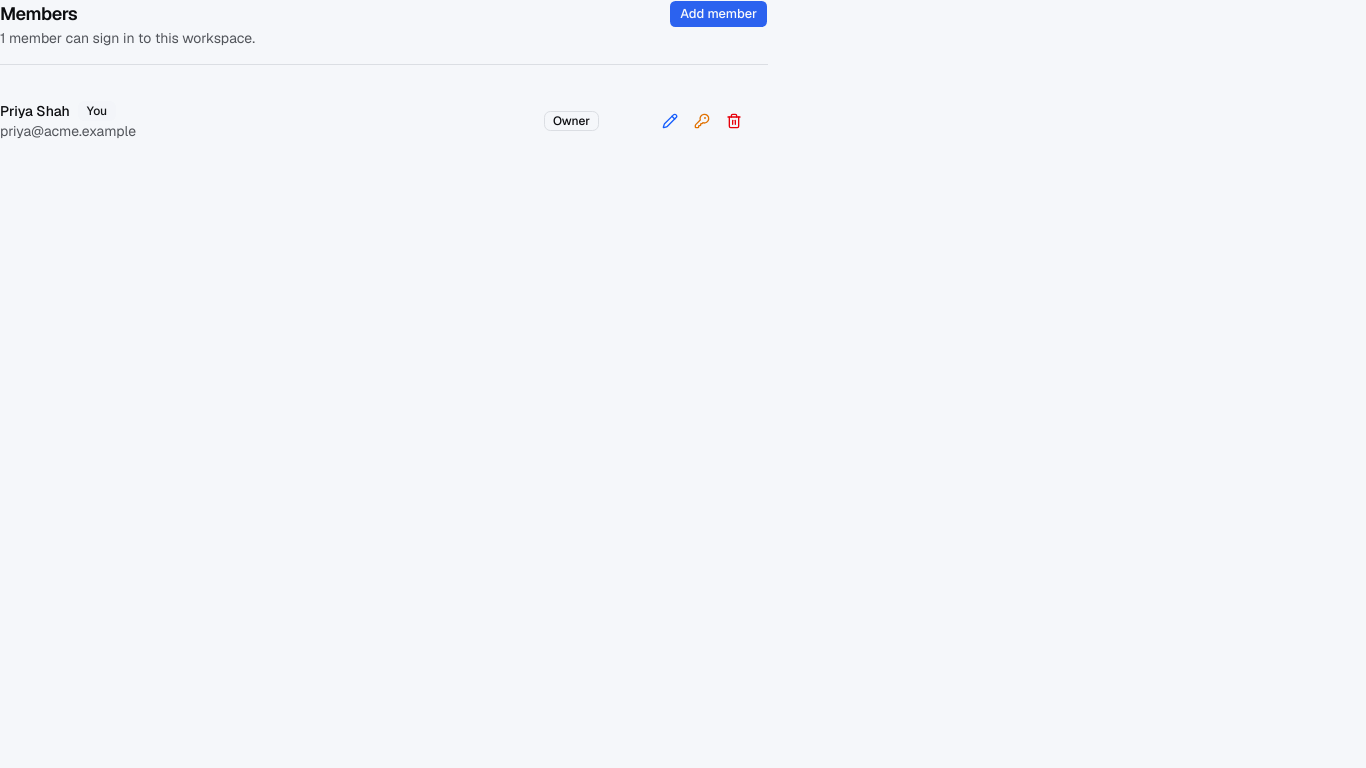
Test: Add member › goes straight to manual entry when everyone already has access
Click the button "Add member" at {"x": 719, "y": 14}, box x1=669 y1=0 x2=768 y2=28
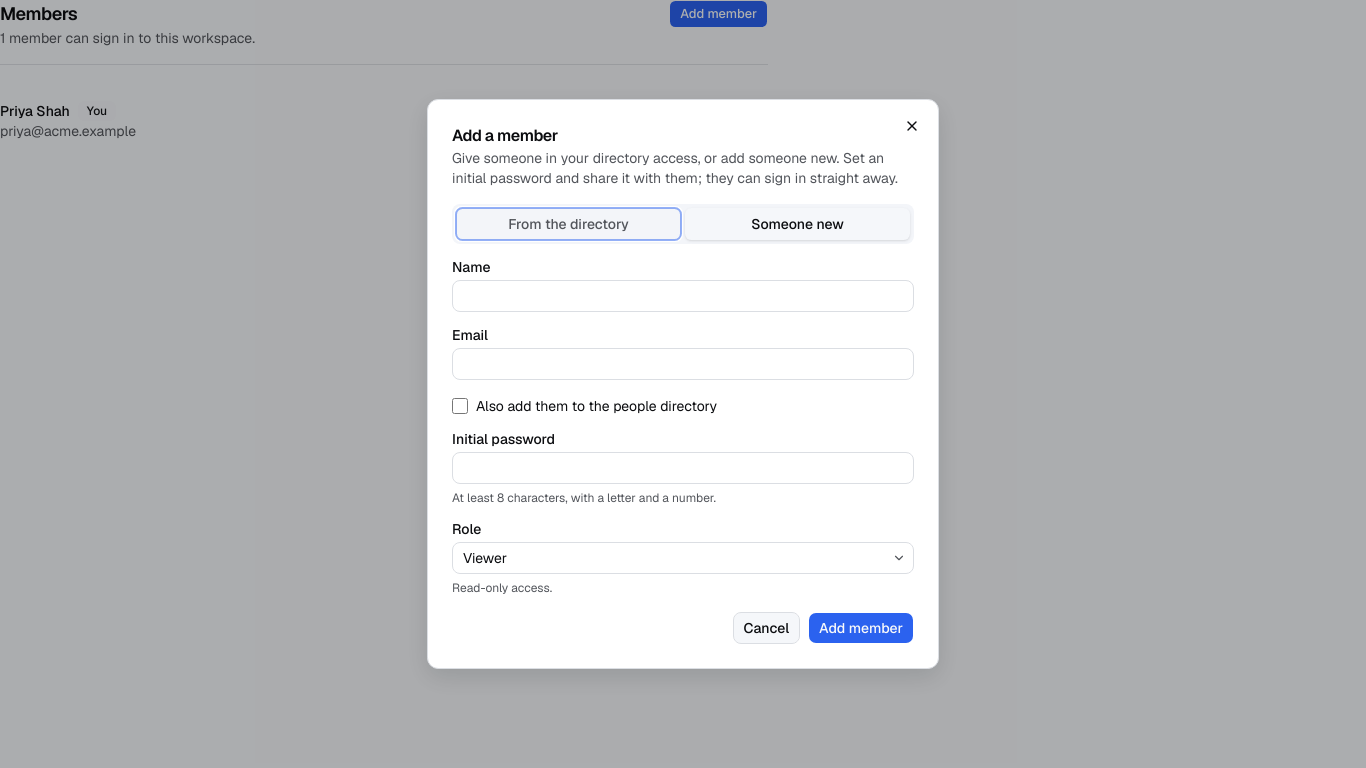
Result: the field labelled "Name" is shown at x1=452 y1=280 x2=914 y2=312
